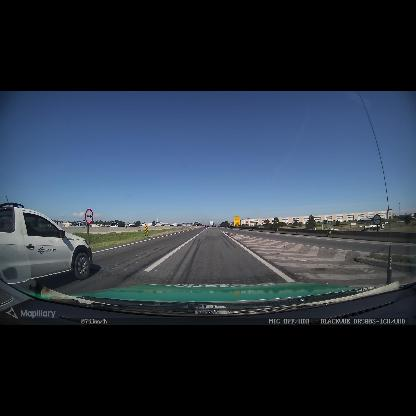O-MP: (145, 224, 148, 233)
R-24a: (85, 209, 93, 224), (373, 214, 381, 225)
